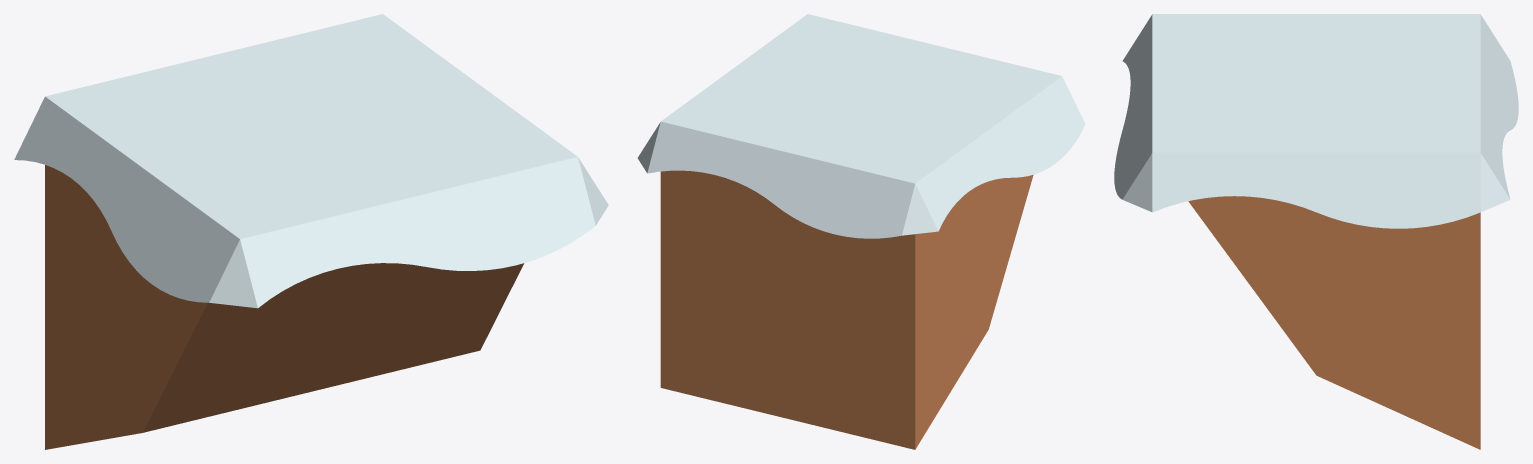
File: blockSnowCliff.fbx
The picture shows the model from 3 angles, left to right: view 1: azimuth 30°, elevation 25°; view 2: azimuth 150°, elevation 25°; view 3: azimuth 270°, elevation 25°; orthographic projection. The views are drawn at different scales.
Parts seen in each view (by area): view 1: blockSnowCliff; view 2: blockSnowCliff; view 3: blockSnowCliff.
Boxes of the visible parts, x1=… form: blockSnowCliff: x1=14, y1=14, x2=608, y2=449; blockSnowCliff: x1=637, y1=14, x2=1085, y2=449; blockSnowCliff: x1=1114, y1=14, x2=1518, y2=449.
Size of the model in its own units: 12.33 by 10 by 12.33.
